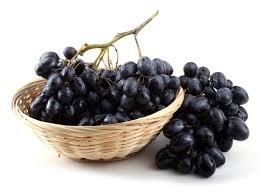anggur: (27, 40, 178, 135), (155, 57, 252, 177)
